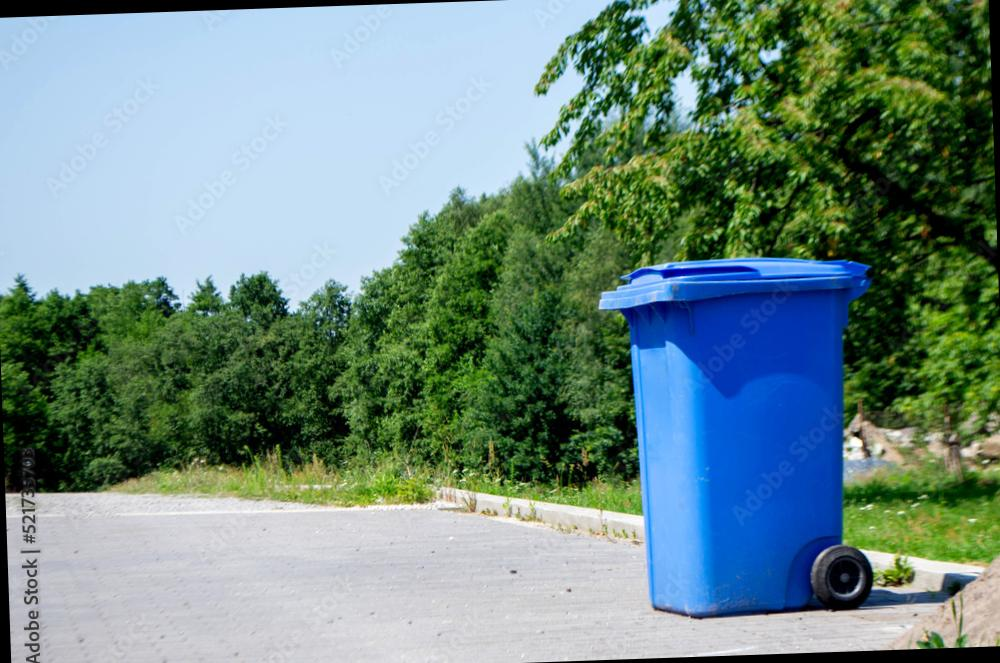garbage bin: (599, 257, 872, 616)
road: (5, 493, 943, 663), (646, 601, 996, 653)
sky: (0, 0, 608, 302)
trash: (0, 0, 851, 649)
